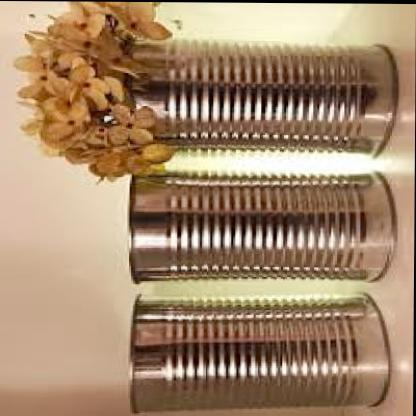Metal: (112, 0, 410, 406)
